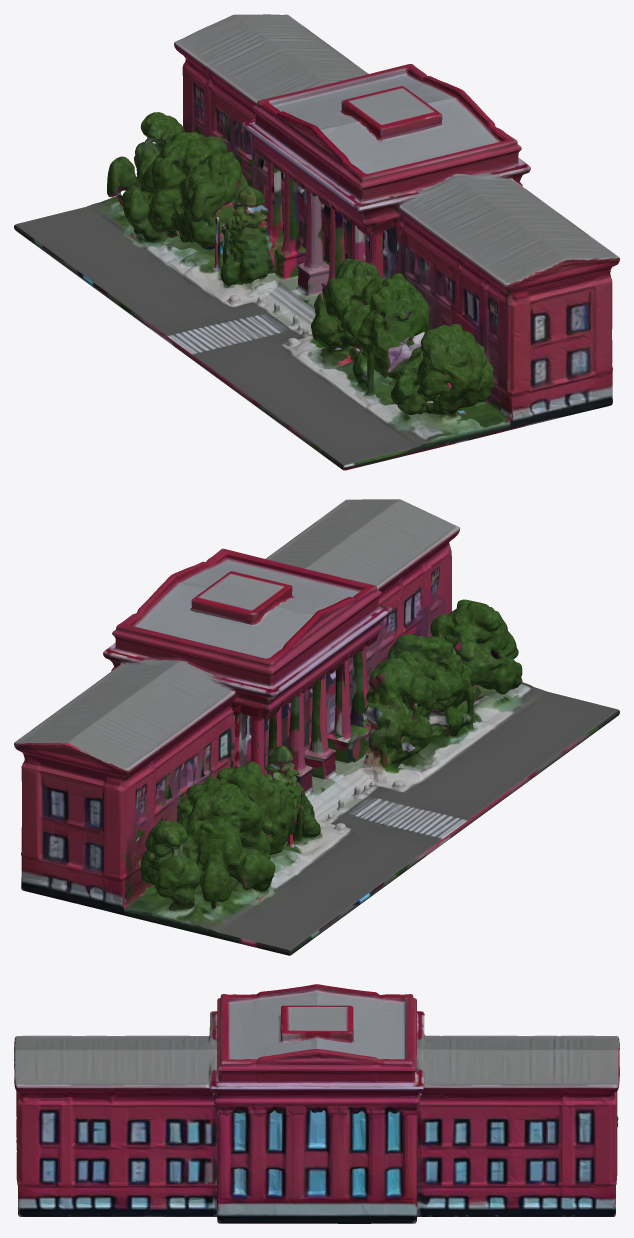
File: comp_tsnuk.glb
3 renders of one model, top to bottom at view 1: azimuth 30°, elevation 25°; view 2: azimuth 150°, elevation 25°; view 3: azimuth 270°, elevation 25°, orthographic. The views are drawn at different scales.
Visible parts, largest first — view 1: geometry_0; view 2: geometry_0; view 3: geometry_0.
Part boxes in pixels (x1,y1,x2,y2): geometry_0: (14, 14, 619, 470); geometry_0: (14, 499, 619, 955); geometry_0: (14, 984, 619, 1223).
Bounding box in the file's own units: 1.02 × 0.6324 × 2.
1 material, 1 textured.
